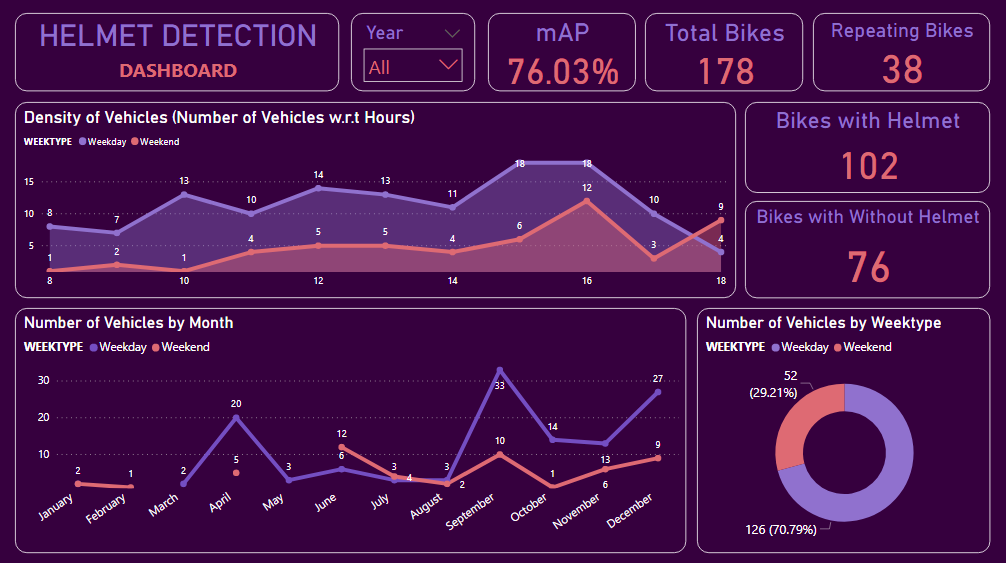

The page's visual inventory and layout, read from the dashboard file:
{"tool":"powerbi","page":{"name":"Helmet Detection","canvas":[1280,720],"ordinal":1},"visuals":[{"type":"card","title":"Total Bikes","fields":{"Values":["CountNonNull(BIKE.Vehicle Type)"]},"box":[819.3,20.7,200,99.3],"z":0},{"type":"card","title":"Bikes with Helmet","fields":{"Values":["CountNonNull(BIKE.Helmet)"]},"box":[946.1,132.8,309.9,115.1],"z":1000},{"type":"card","title":"Bikes with Without Helmet","fields":{"Values":["CountNonNull(BIKE.Helmet)"]},"box":[946.1,258,309.9,122.7],"z":2000},{"type":"card","title":"mAP","fields":{"Values":["Avg(BIKE.Precision)"]},"box":[620.7,20.7,186.7,99.3],"z":3000},{"type":"textbox","title":"HELMET DETECTION","box":[22.2,20.7,410.4,99.3],"z":4000},{"type":"slicer","fields":{"Values":["BIKE.Date.Variation.Date Hierarchy.Year"]},"box":[447.4,20.7,157,99.3],"z":5000},{"type":"card","title":"Repeating Bikes","fields":{"Values":["BIKE.Count of Vehicle I.D minus Count of Vehicle I.D 2"]},"box":[1032.6,20.7,223.7,99.3],"z":6000},{"type":"areaChart","title":"Density of Vehicles (Number of Vehicles w.r.t Hours)","fields":{"Series":["BIKE.WEEKTYPE"],"Y":["CountNonNull(BIKE.Vehicle Type)"],"Category":["BIKE.Hr"]},"box":[22.8,132.8,911.9,247.9],"z":7000},{"type":"donutChart","title":"Number of Vehicles by Weektype","fields":{"Category":["BIKE.WEEKTYPE"],"Y":["CountNonNull(BIKE.Vehicle Type)"]},"box":[885.4,393.4,370.6,309.9],"z":8000},{"type":"lineChart","title":"Number of Vehicles by Month","fields":{"Series":["BIKE.WEEKTYPE"],"Category":["BIKE.Date.Variation.Date Hierarchy.Month"],"Y":["CountNonNull(BIKE.Vehicle Type)"]},"box":[22.8,393.4,848.7,309.9],"z":9000}]}

Visuals, with their boxes in screenshot pixels (x1, y1, x2, y2), scaled from the page's 1280x720 canvas onto the 1006x563 screenshot:
"Total Bikes" card: 644/16/801/94
"Bikes with Helmet" card: 744/104/987/194
"Bikes with Without Helmet" card: 744/202/987/298
"mAP" card: 488/16/635/94
"HELMET DETECTION" textbox: 17/16/340/94
slicer - BIKE.Date.Variation.Date Hierarchy.Year: 352/16/475/94
"Repeating Bikes" card: 812/16/987/94
"Density of Vehicles (Number of Vehicles w.r.t Hours)" areaChart: 18/104/735/298
"Number of Vehicles by Weektype" donutChart: 696/308/987/550
"Number of Vehicles by Month" lineChart: 18/308/685/550
